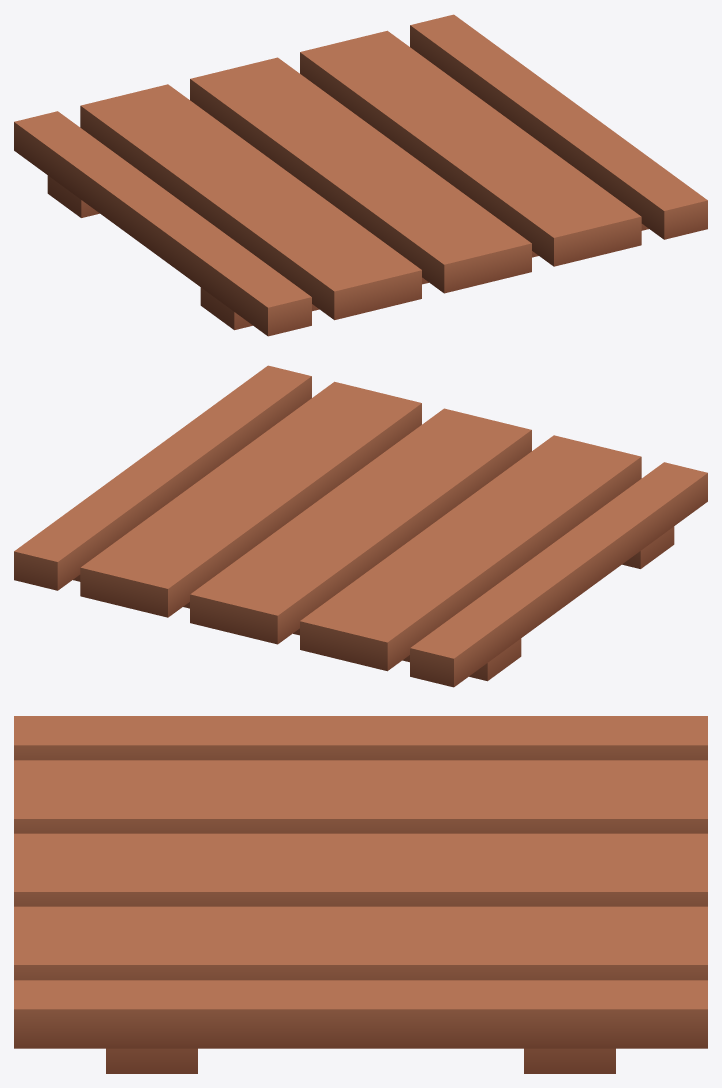
File: floor.glb
The picture shows the model from 3 angles, top to bottom: view 1: azimuth 30°, elevation 25°; view 2: azimuth 150°, elevation 25°; view 3: azimuth 270°, elevation 25°; orthographic projection. The views are drawn at different scales.
Parts seen in each view (by area): view 1: floor; view 2: floor; view 3: floor.
Boxes of the visible parts, left/top/right/bottom form: floor: left=14, top=14, right=707, bottom=336; floor: left=14, top=365, right=707, bottom=687; floor: left=14, top=716, right=707, bottom=1073.
Size of the model in its own units: 0.5 by 0.0512 by 0.5.
